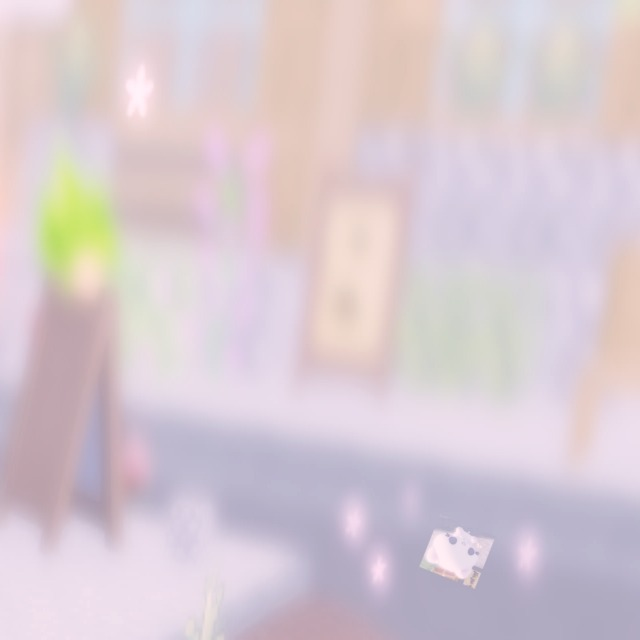urso_branco: (419, 514, 496, 589)
